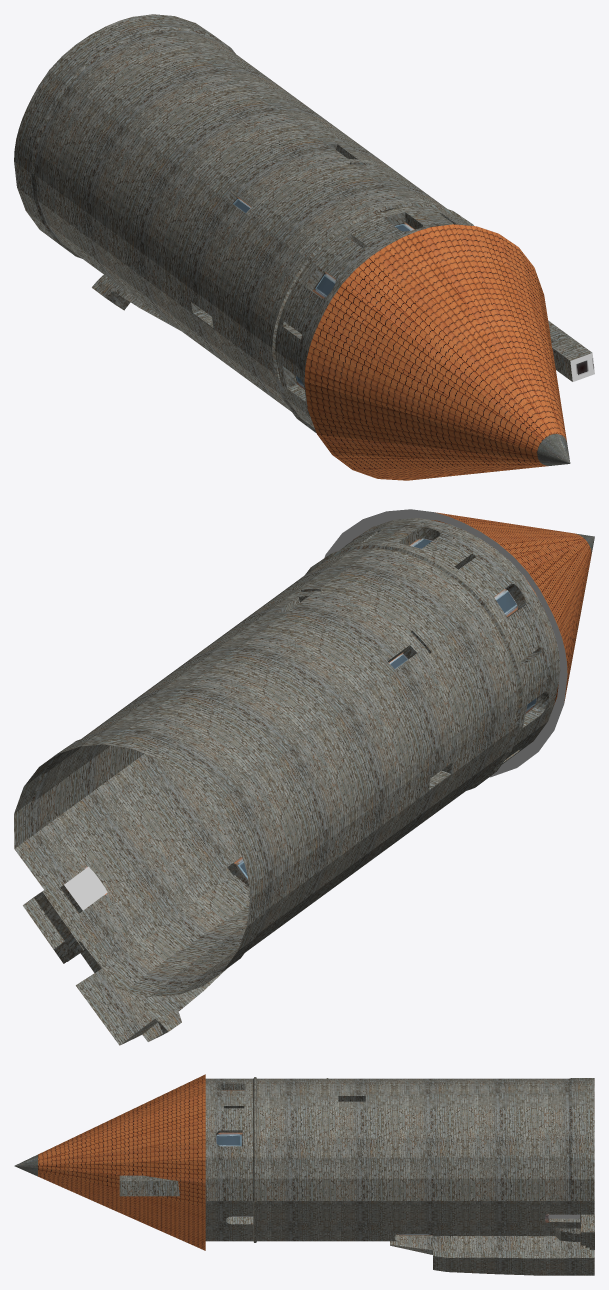
Rendered from Laboratooriumi_29.obj.
The picture shows the model from 3 angles, top to bottom: view 1: azimuth 30°, elevation 25°; view 2: azimuth 150°, elevation 25°; view 3: azimuth 270°, elevation 25°; orthographic projection. The views are drawn at different scales.
Parts seen in each view (by area): view 1: Laboratooriumi_29; view 2: Laboratooriumi_29; view 3: Laboratooriumi_29.
Boxes of the visible parts, x1,y1,x2,y2 form: Laboratooriumi_29: (14, 14, 594, 480); Laboratooriumi_29: (14, 509, 594, 1045); Laboratooriumi_29: (14, 1074, 594, 1275).
Size of the model in its own units: 10.54 by 12.1 by 33.38.
